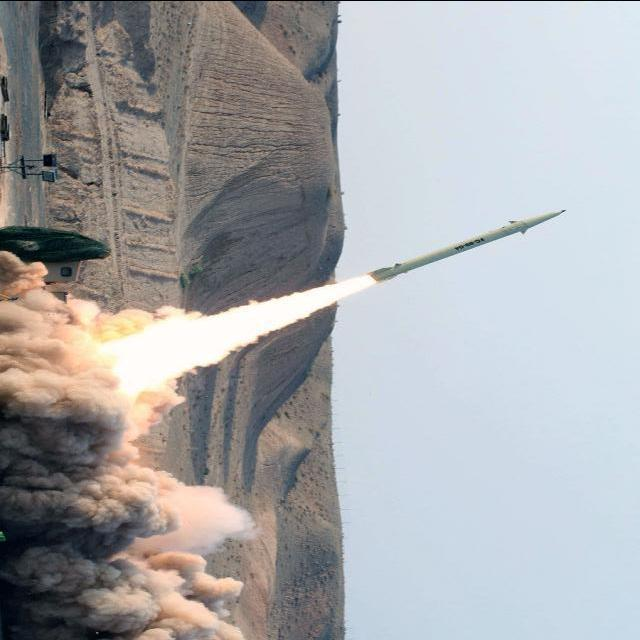Missile: (364, 205, 579, 283)
